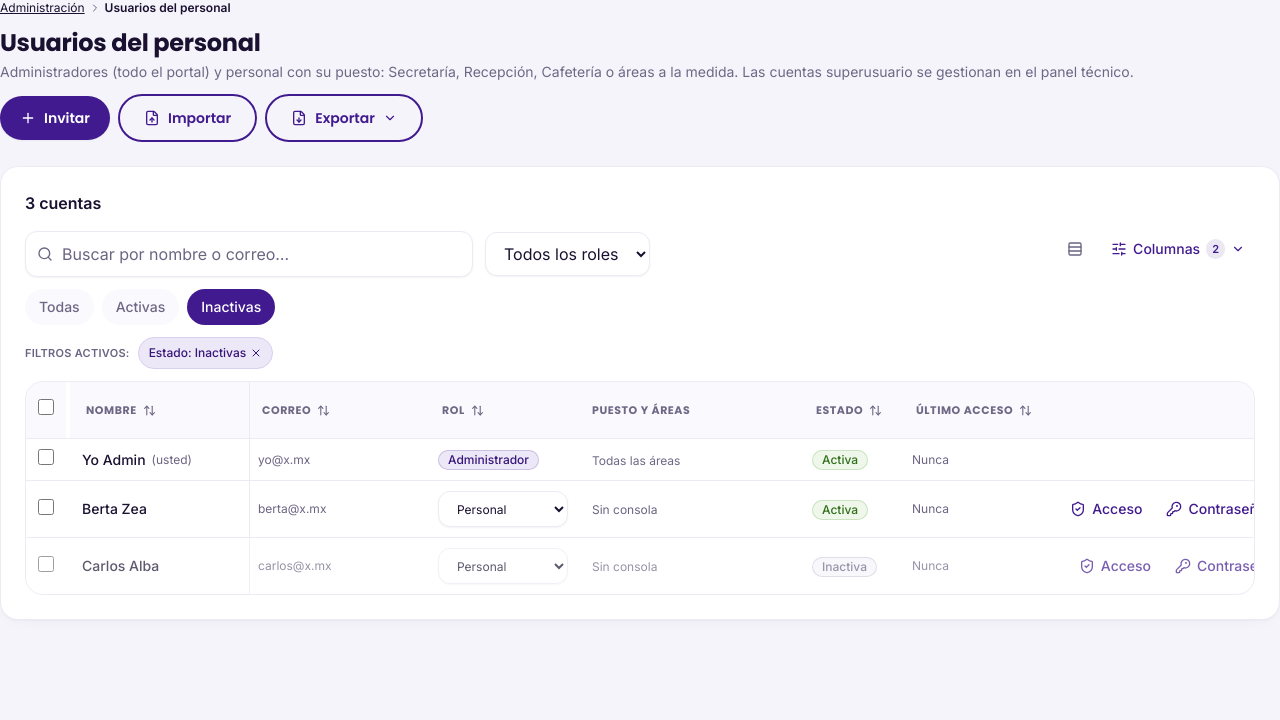
Test case: AdminStaffUsers (Data Ops Phase 3) › exports and opens the invite-by-file dialog
The width and height of the screenshot is (1280, 720).
Expected: the text "Berta Zea" is shown, [82,500,147,517]
Click the button "Exportar".
click(344, 118)  # box [265,94,423,142]
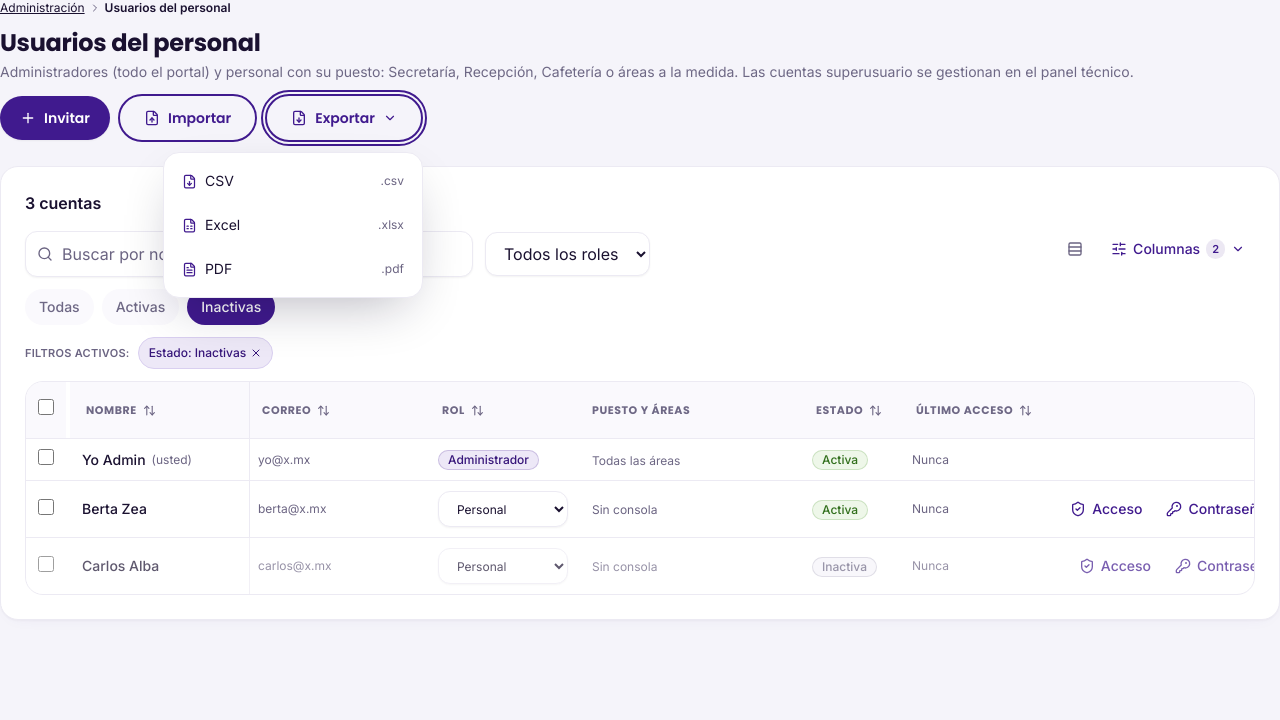
Click the menu item "CSV .csv".
click(293, 181)  # box [170,159,416,203]
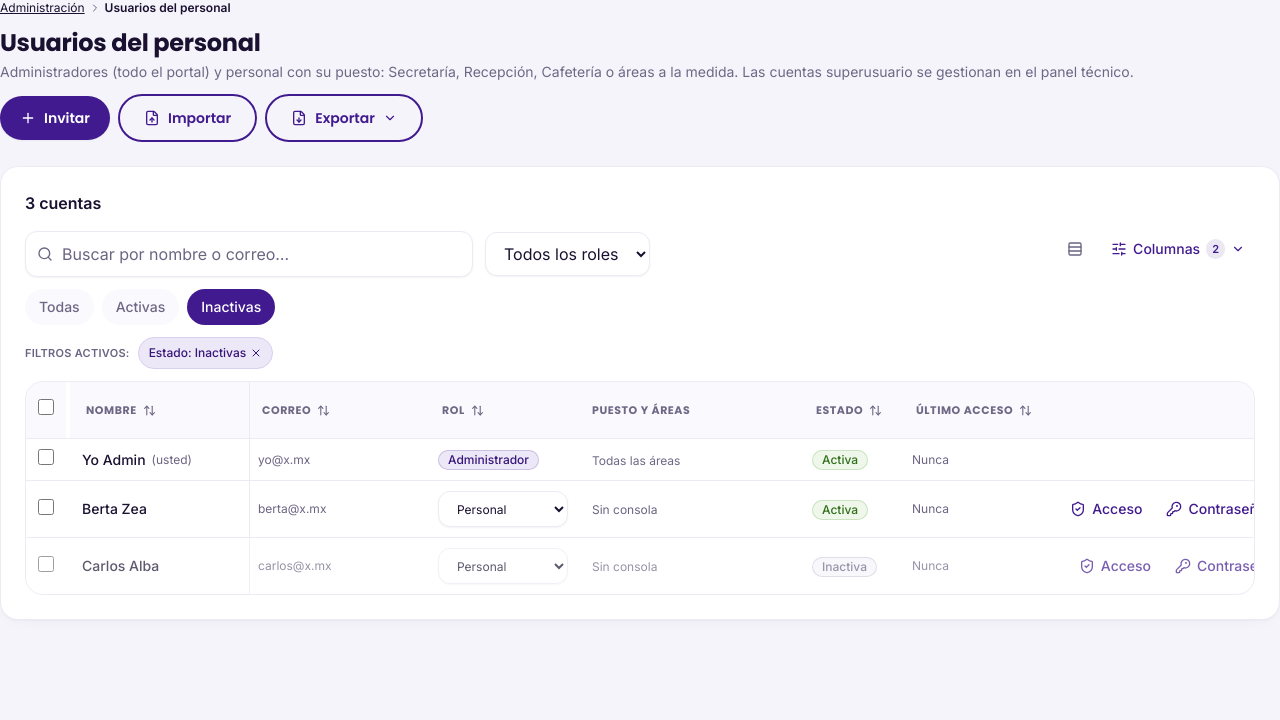
Click the button "Importar".
click(188, 118)  # box [118,94,257,142]
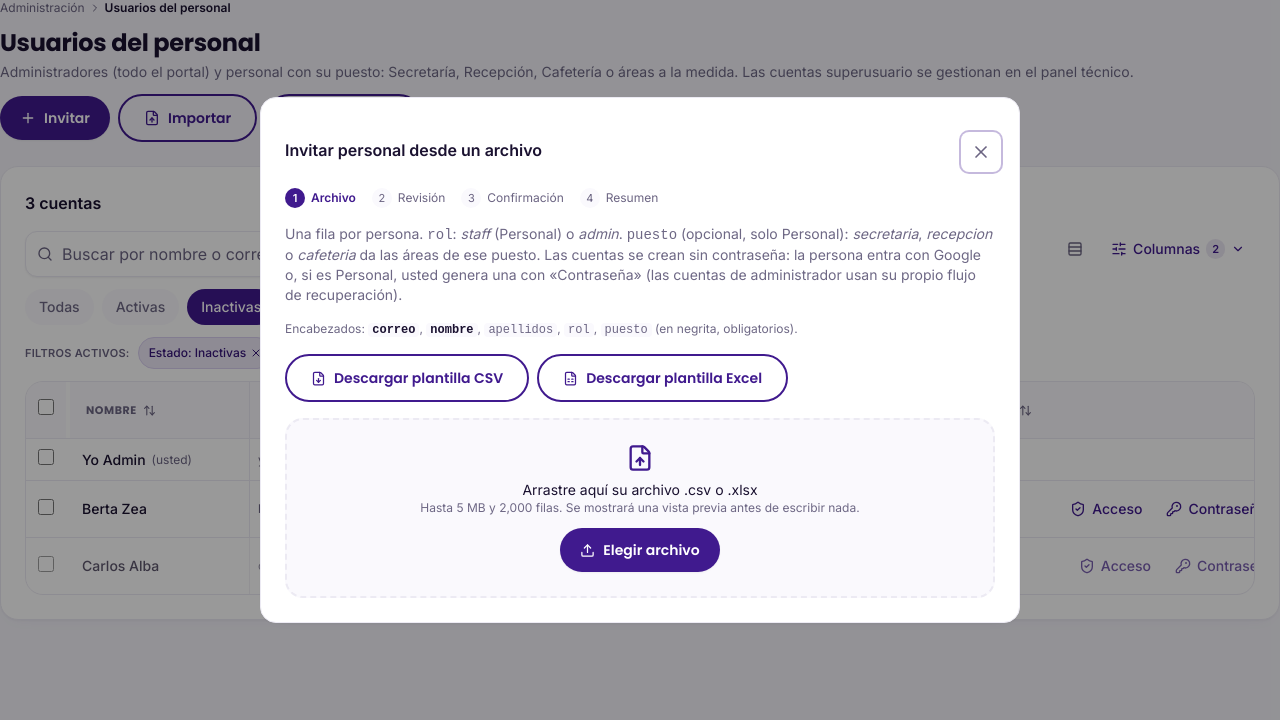
Expected: the dialog "Invitar personal desde un archivo" is shown, [260,97,1020,623]
